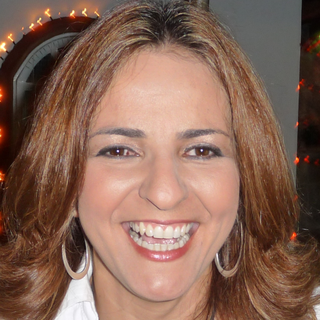eye: (179, 140, 227, 164), (94, 141, 143, 164)
